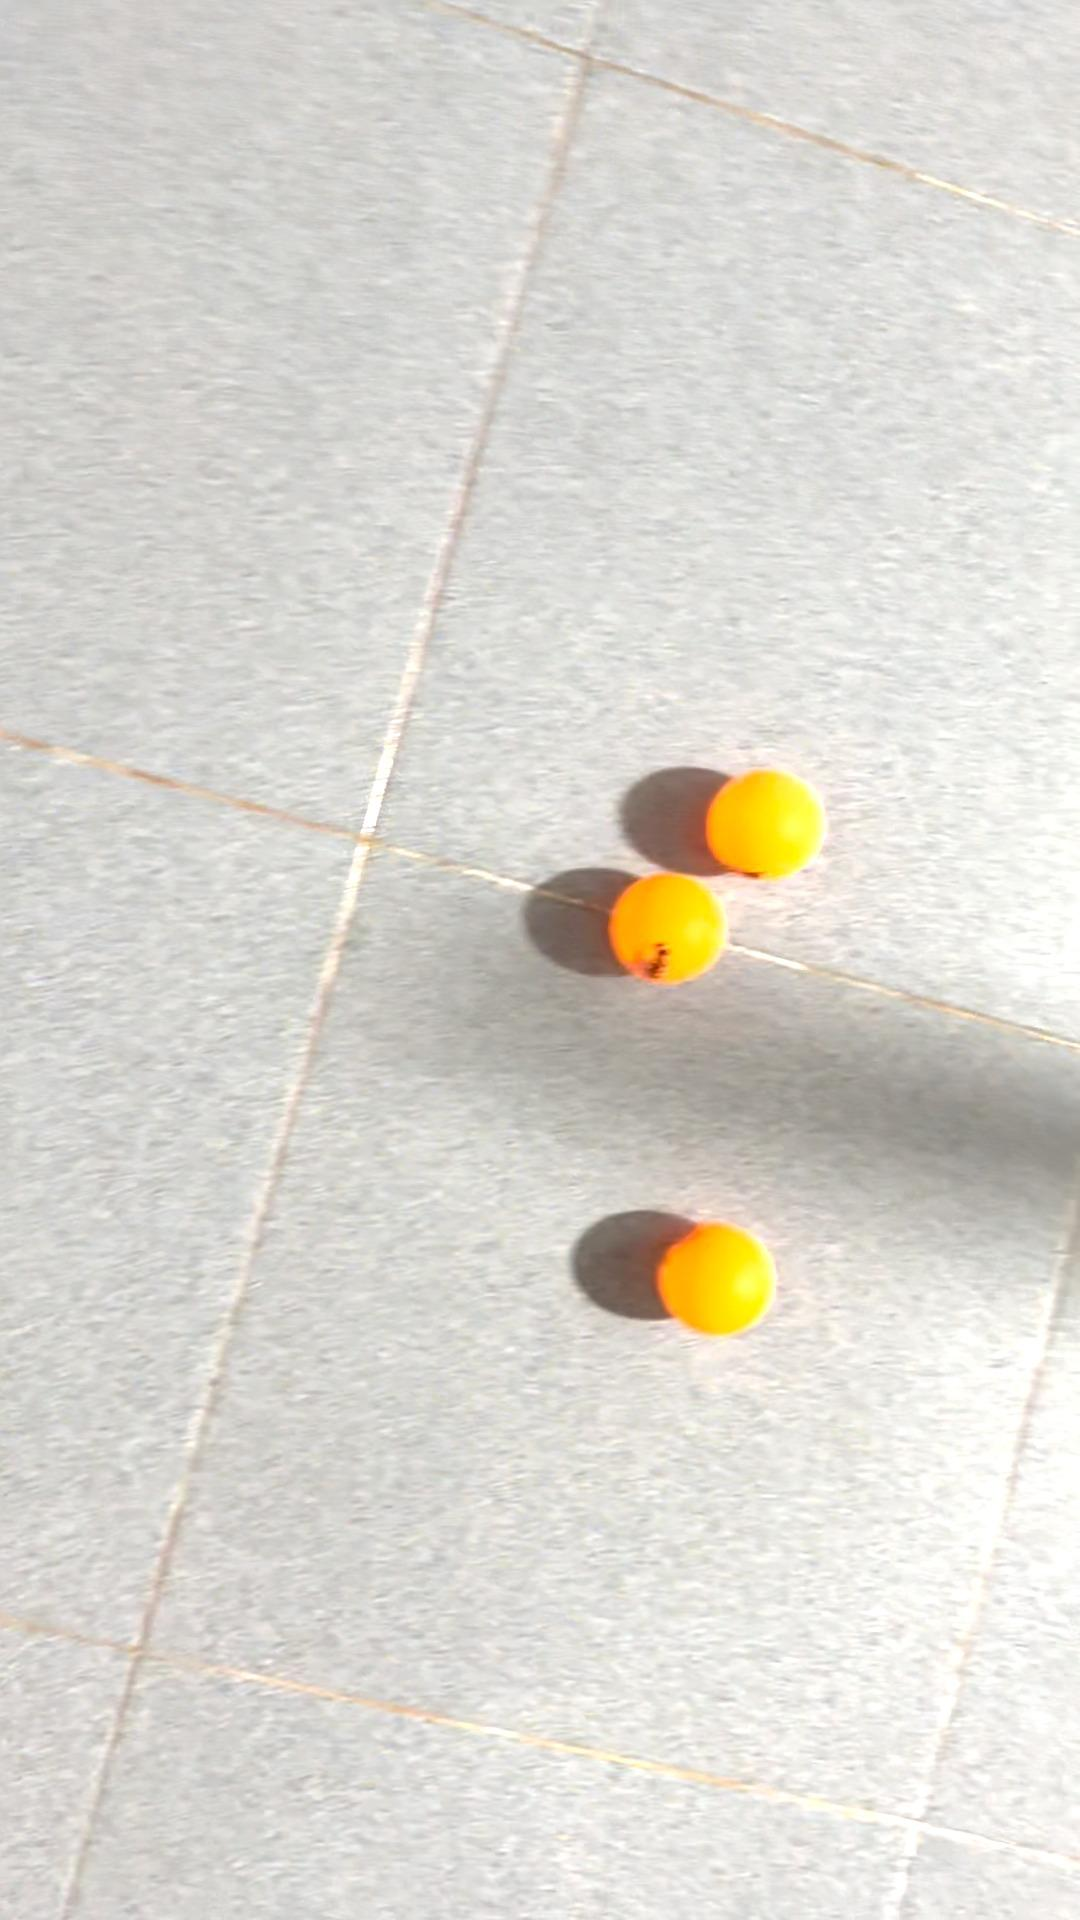oball: (646, 1207, 798, 1348), (601, 857, 737, 996), (698, 765, 847, 882)
